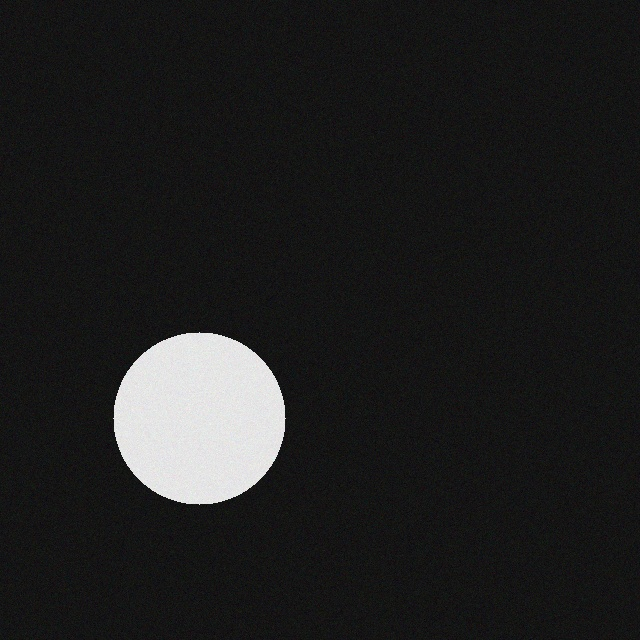circle: (99, 323, 271, 495)
